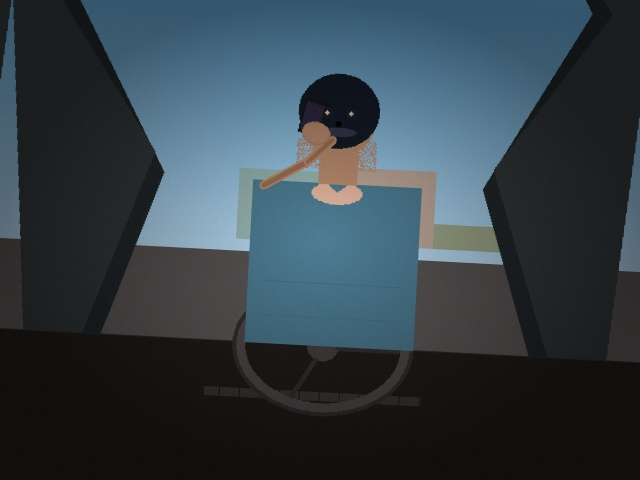phone_usage: (287, 93, 324, 143)
